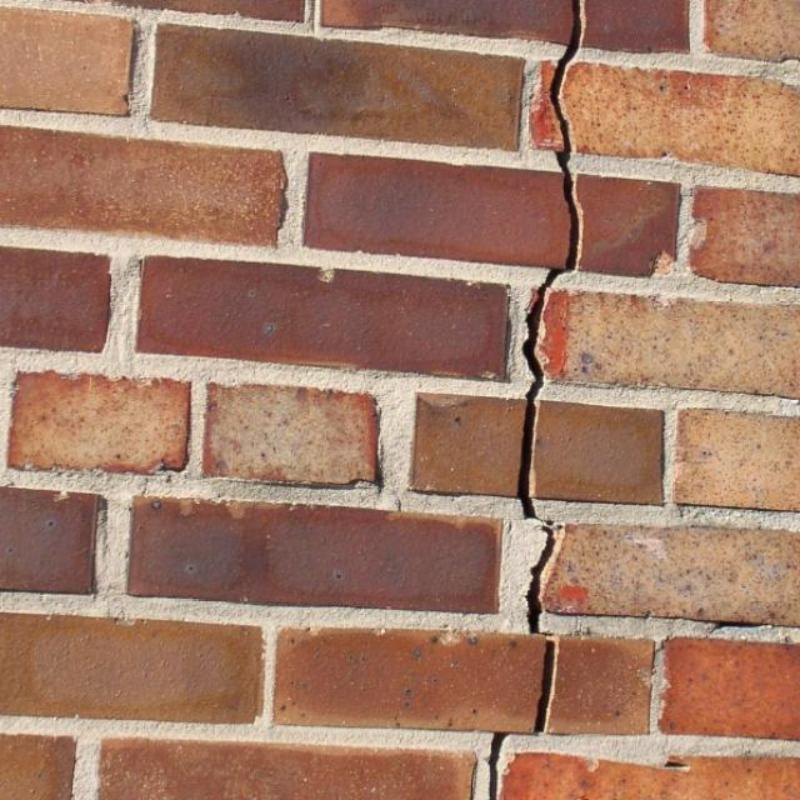crack: (519, 0, 582, 520), (529, 525, 555, 634), (535, 641, 555, 730), (489, 732, 510, 799)
